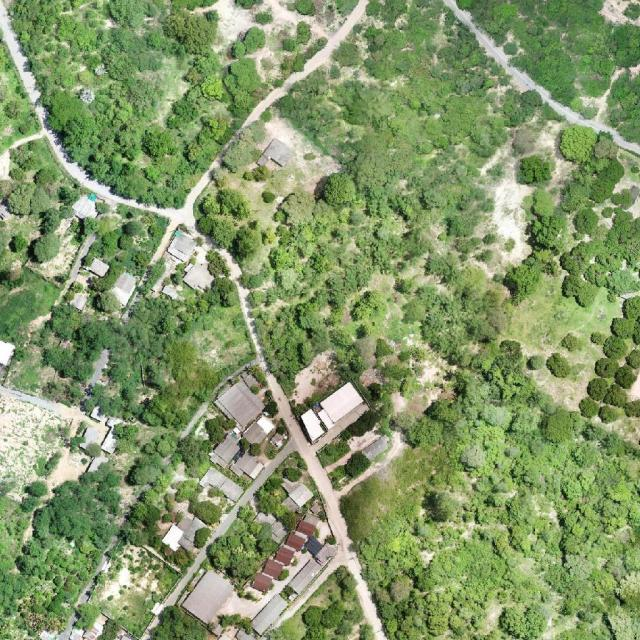building: (248, 515, 321, 597), (294, 378, 365, 444), (181, 567, 236, 626), (213, 378, 267, 432), (198, 466, 246, 504), (248, 593, 290, 636), (169, 511, 207, 553), (287, 558, 325, 596), (181, 260, 219, 297), (229, 450, 265, 485), (107, 270, 140, 308), (242, 414, 276, 448), (167, 231, 199, 263), (263, 137, 296, 168), (214, 434, 243, 464), (160, 523, 189, 553), (313, 539, 341, 568), (74, 425, 103, 451), (99, 429, 124, 456), (87, 256, 111, 279), (302, 534, 324, 557), (90, 405, 110, 424)
greenland: (190, 151, 426, 400), (510, 125, 640, 422), (32, 49, 264, 200), (86, 262, 252, 451), (0, 31, 97, 346), (0, 470, 120, 640), (386, 238, 524, 375), (10, 0, 219, 80), (0, 292, 121, 416), (310, 306, 433, 416), (79, 534, 182, 638), (273, 53, 367, 148), (110, 465, 201, 559), (200, 502, 287, 591), (86, 198, 168, 281), (120, 427, 216, 487), (264, 16, 328, 79), (289, 588, 353, 640), (331, 566, 375, 639), (170, 475, 229, 529), (250, 466, 302, 522), (324, 105, 368, 167), (200, 246, 242, 310), (222, 22, 271, 63), (500, 88, 543, 129), (87, 258, 129, 298), (89, 286, 123, 320), (515, 154, 552, 184), (327, 75, 361, 105), (140, 186, 185, 208), (351, 291, 384, 317), (188, 523, 213, 550), (115, 423, 137, 453), (336, 42, 363, 65), (204, 417, 226, 444), (282, 464, 304, 483), (235, 1, 264, 9), (256, 20, 269, 24)
unmetalled_road: (286, 416, 389, 640), (225, 286, 316, 465), (207, 437, 299, 544), (0, 0, 45, 108), (78, 176, 172, 227), (28, 98, 76, 175), (166, 548, 211, 604), (70, 195, 96, 221), (357, 589, 373, 611), (309, 461, 321, 480), (330, 507, 340, 529), (323, 430, 341, 440)
